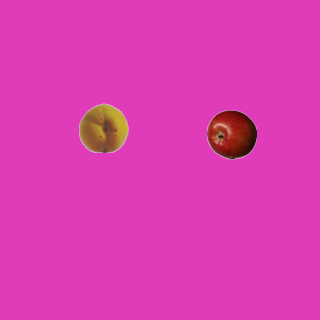Apple Braeburn: (206, 109, 256, 159)
Peach 2: (78, 102, 128, 152)
